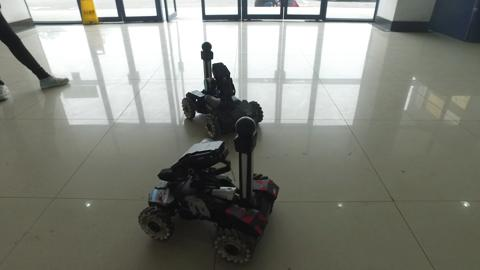chariot: (139, 113, 282, 266), (174, 38, 265, 140)
